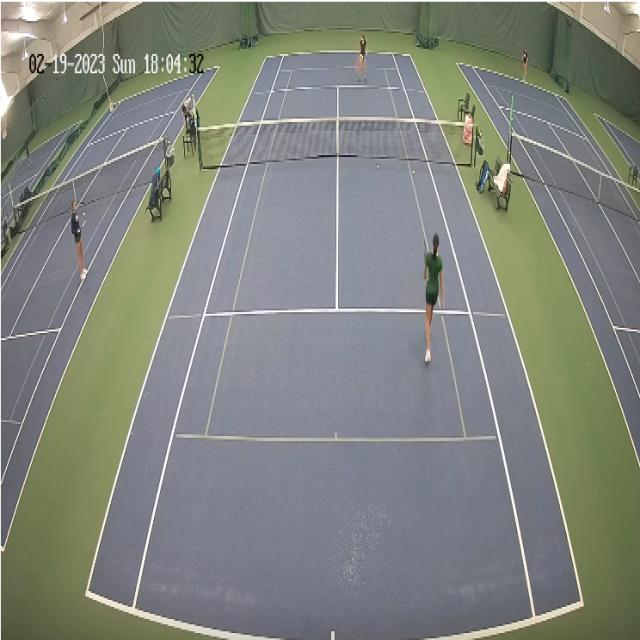ball: (376, 163, 380, 170), (412, 168, 415, 174)
